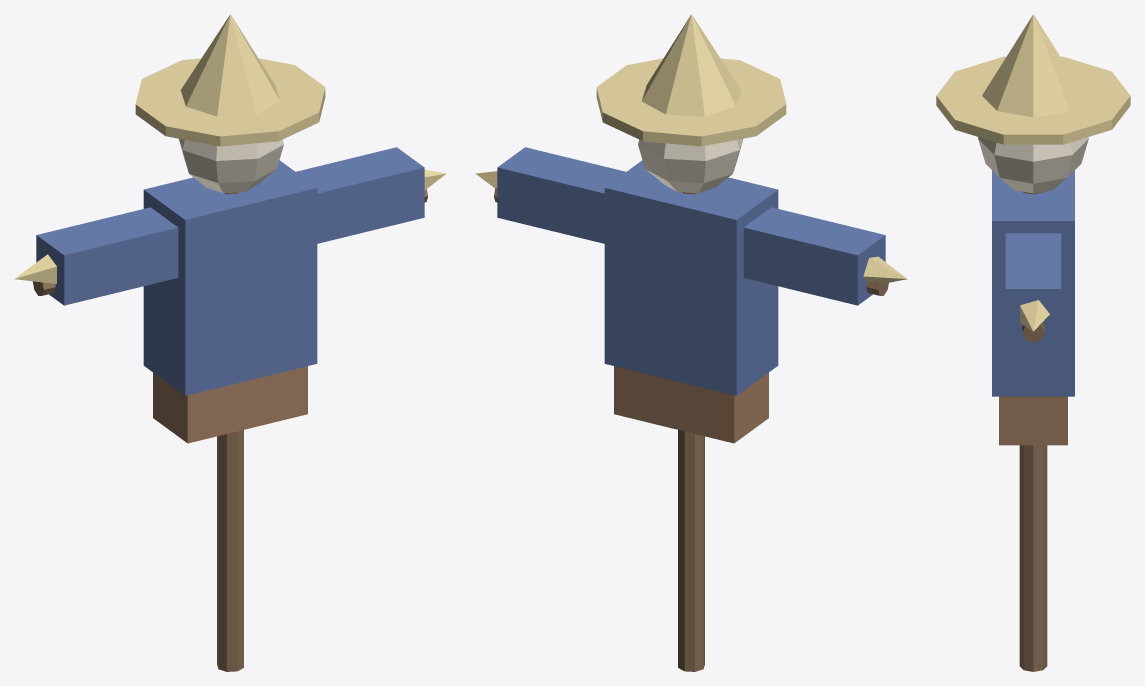
Rendered from scarecrow.glb.
The picture shows the model from 3 angles, left to right: view 1: azimuth 30°, elevation 25°; view 2: azimuth 150°, elevation 25°; view 3: azimuth 270°, elevation 25°; orthographic projection.
Parts seen in each view (by area): view 1: scarecrow; view 2: scarecrow; view 3: scarecrow.
Boxes of the visible parts, x1,y1,x2,y2 form: scarecrow: (14,14,445,671); scarecrow: (476,14,907,671); scarecrow: (936,14,1130,671).
Bounding box in the file's own units: 1.8 × 2.6 × 0.7002.
